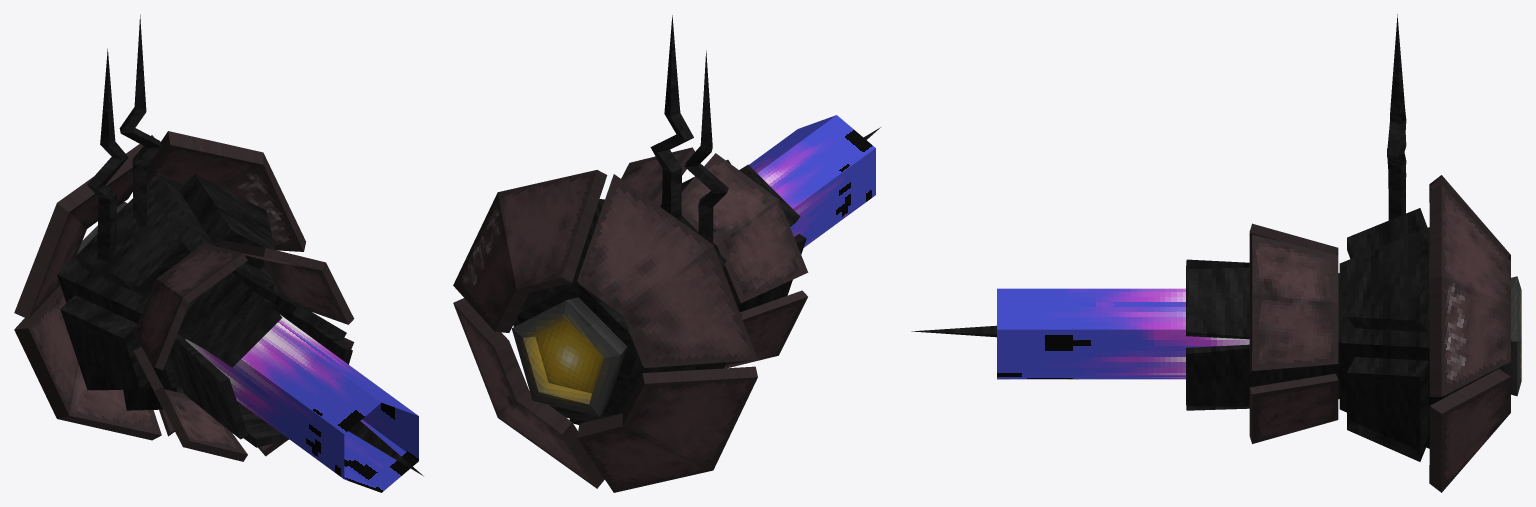
Rendered from bumper.glb.
3 views of the same model, side by side, from view 1: azimuth 30°, elevation 25°; view 2: azimuth 150°, elevation 25°; view 3: azimuth 270°, elevation 25° (orthographic). The views are drawn at different scales.
Parts seen in each view (by area): view 1: Circle.001, Circle, Circle.008, Circle.007, Circle.009; view 2: Circle, Circle.001, Circle.007, Circle.008, Circle.009; view 3: Circle.001, Circle, Circle.008, Circle.007, Circle.009.
Part boxes in pixels (box(x1,y1,x2,y2)): Circle.001: box(57, 172, 423, 476); Circle: box(14, 131, 305, 440); Circle.008: box(185, 314, 418, 492); Circle.007: box(133, 239, 354, 461); Circle.009: box(87, 14, 161, 261); Circle: box(453, 170, 757, 492); Circle.001: box(511, 127, 880, 424); Circle.007: box(621, 147, 808, 368); Circle.008: box(749, 115, 875, 247); Circle.009: box(650, 15, 728, 244); Circle.001: box(911, 208, 1521, 461); Circle: box(1429, 175, 1510, 492); Circle.008: box(997, 288, 1249, 379); Circle.007: box(1249, 223, 1338, 443); Circle.009: box(1387, 14, 1406, 220).
Size of the model in its own units: 4.06 by 5.99 by 7.34.
1 material, 1 textured.
